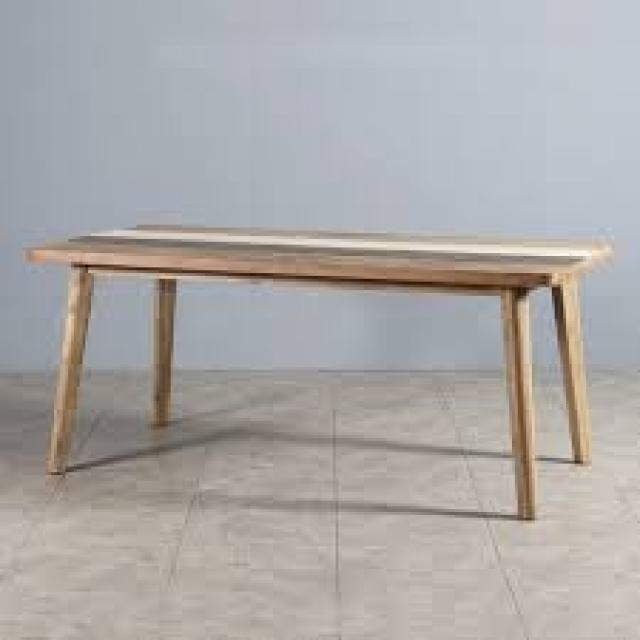Table: (26, 207, 625, 530)
